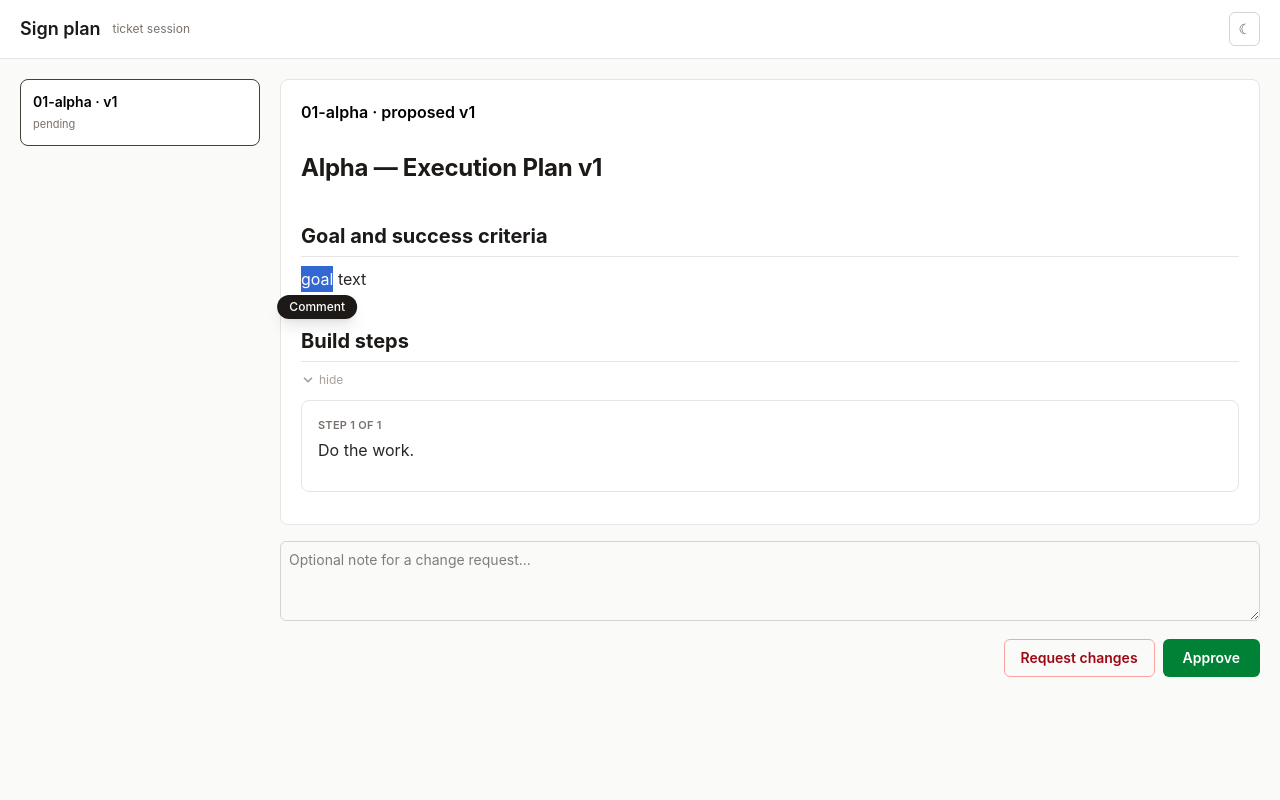
Test case: SignOffView › blocks approval while an unsent annotation exists
Click the button with aria-label "Comment on selected text". click: (317, 307)
box: [277,295,357,319]
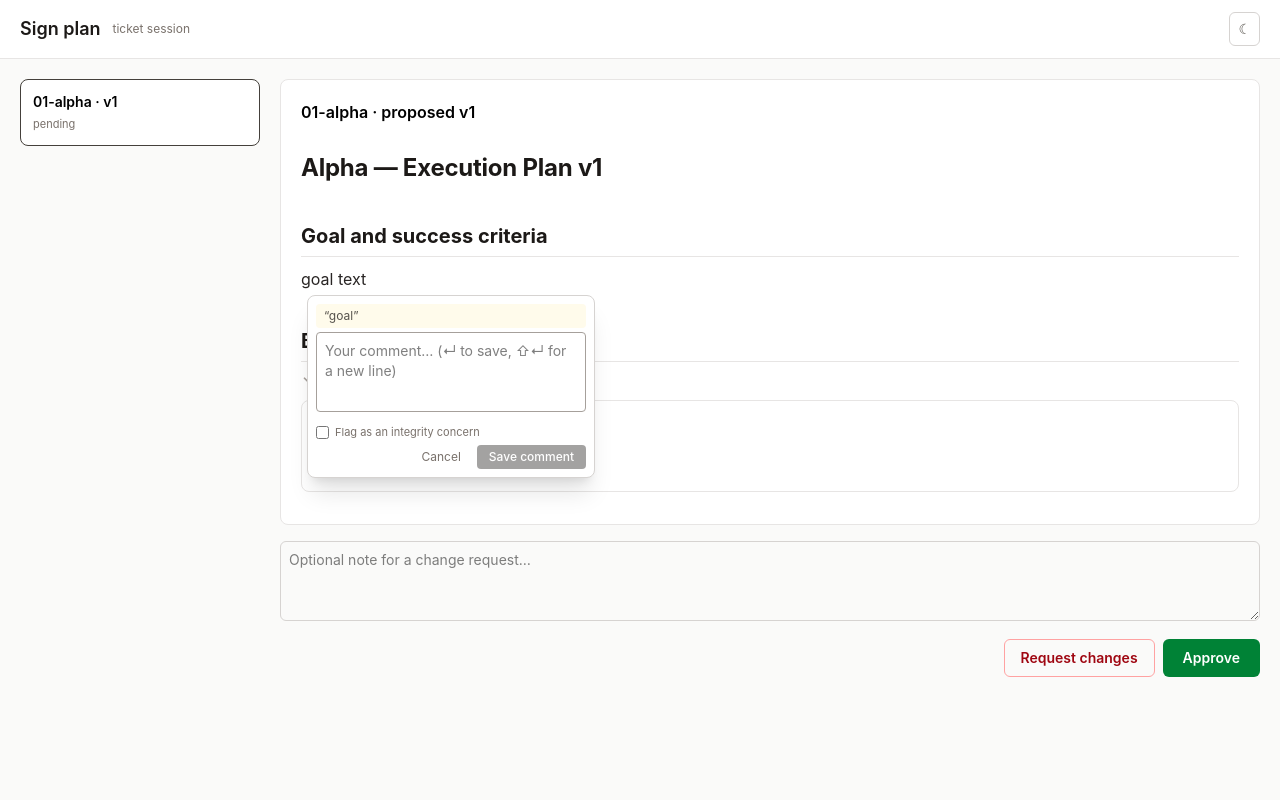
Type "Clarify this goal." into the text box with placeholder "Your comment… (↵ to save, ⇧↵ for a new line)". click: (451, 372)
box: [316,332,586,412]
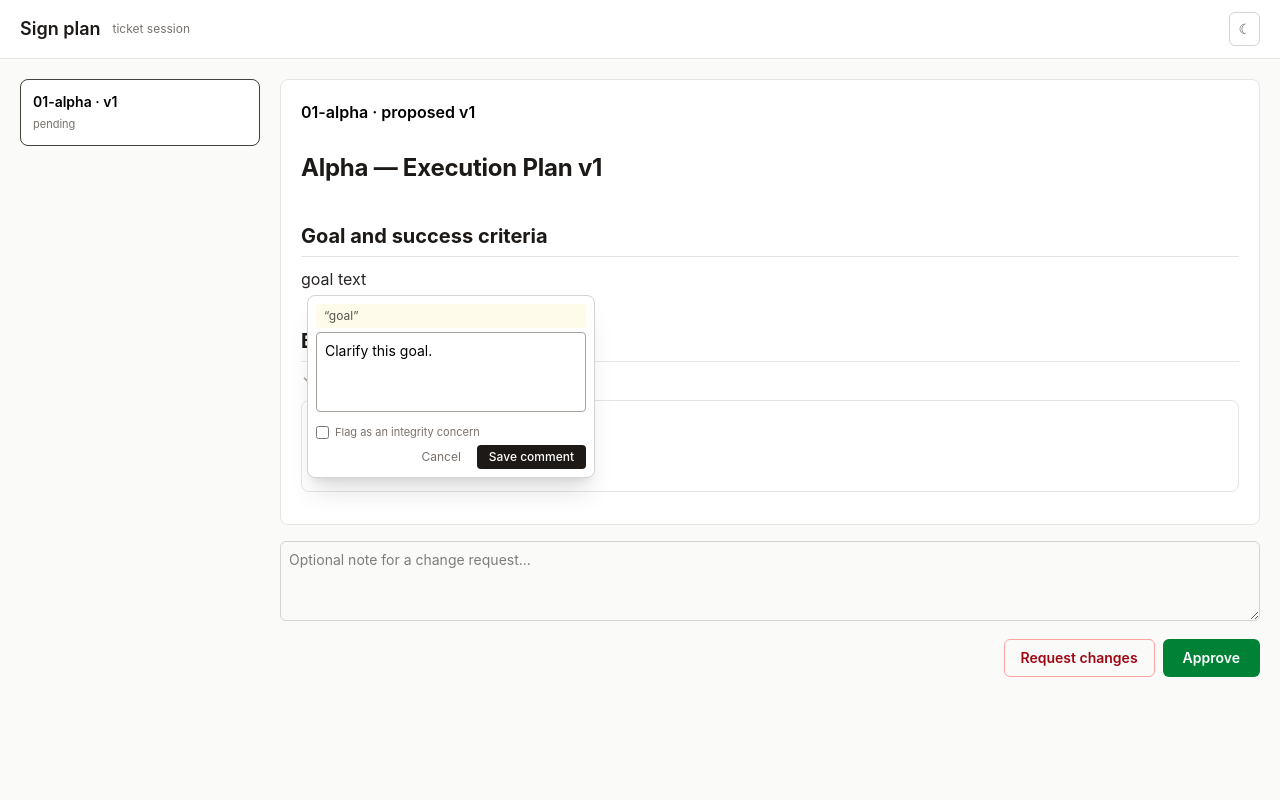
Click the button "Save comment". click: (531, 457)
box: [477,445,586,469]
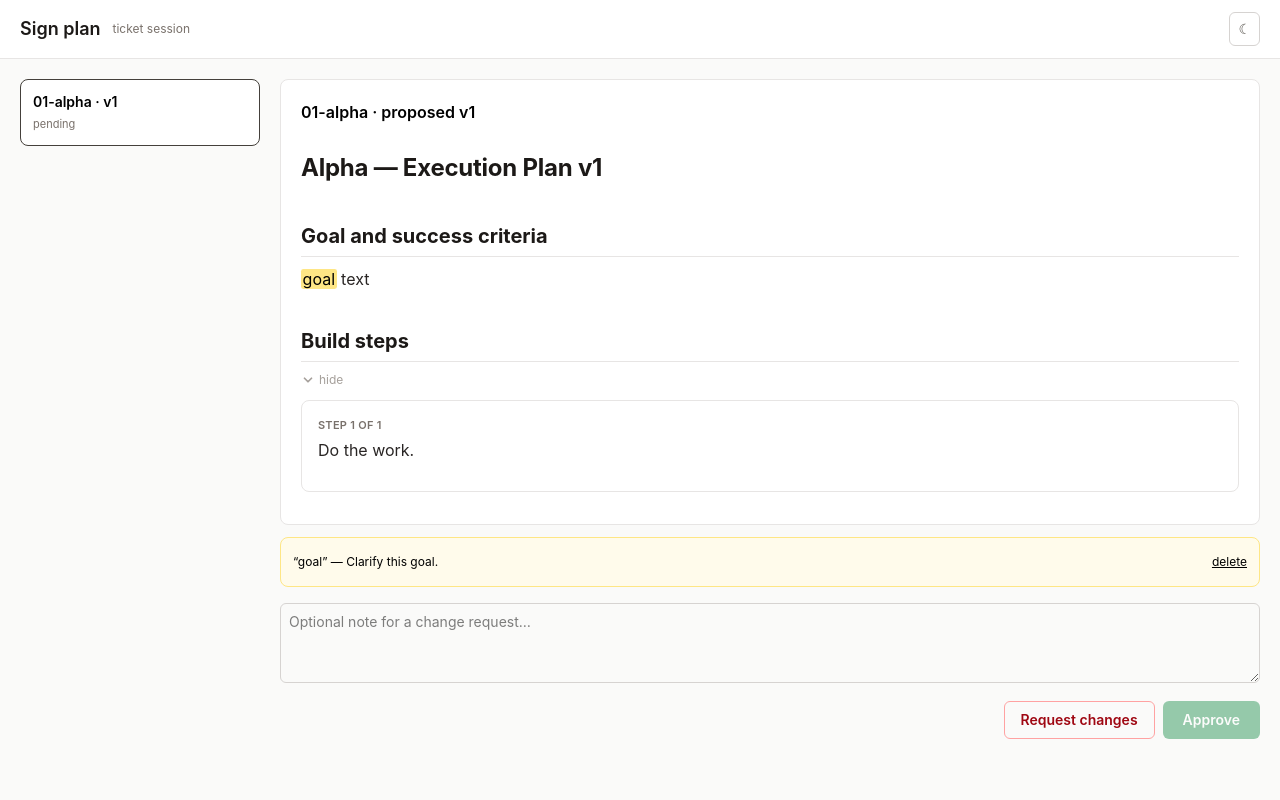
Result: the button "Approve" is disabled at [1163,701,1260,739]
